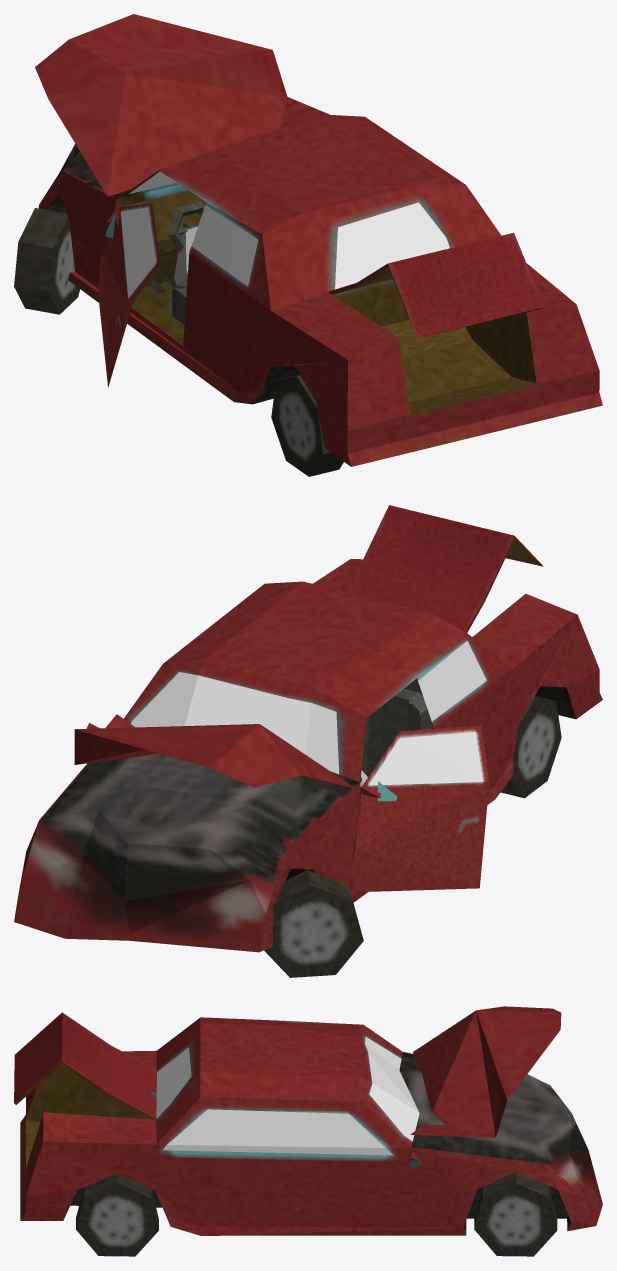
Rendered from car.fbx.
3 renders of one model, top to bottom at view 1: azimuth 30°, elevation 25°; view 2: azimuth 150°, elevation 25°; view 3: azimuth 270°, elevation 25°, orthographic. The views are drawn at different scales.
Visible parts, largest first — view 1: Broken car, Car.001, door, Cylinder; view 2: Broken car, door, Car.001; view 3: Broken car, Car.001.
Part boxes in pixels (left/top/right/bottom): Broken car: left=14, top=14, right=602, bottom=476; Car.001: left=328, top=233, right=543, bottom=338; door: left=97, top=203, right=160, bottom=387; Cylinder: left=174, top=227, right=197, bottom=286; Broken car: left=14, top=559, right=602, bottom=977; door: left=350, top=725, right=489, bottom=891; Car.001: left=346, top=505, right=543, bottom=632; Broken car: left=20, top=1006, right=602, bottom=1256; Car.001: left=14, top=1012, right=156, bottom=1118.
Bounding box in the file's own units: 1.83 × 1.21 × 3.53.
